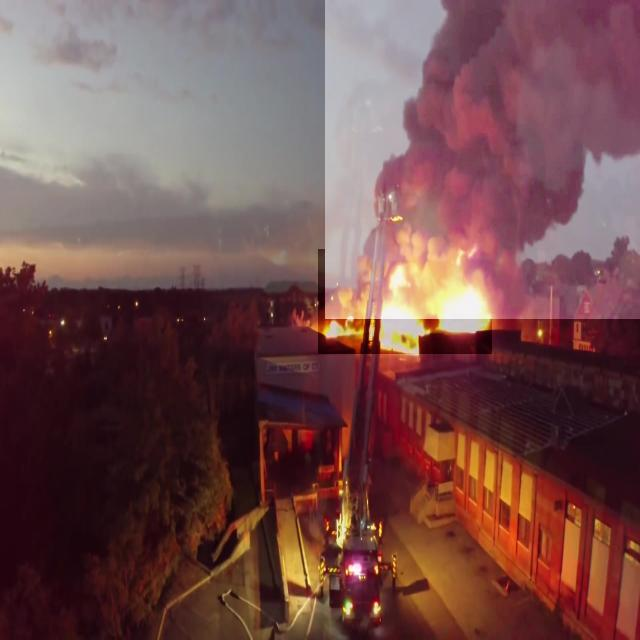Fire: (318, 249, 492, 354)
Smoke: (325, 0, 640, 319)
